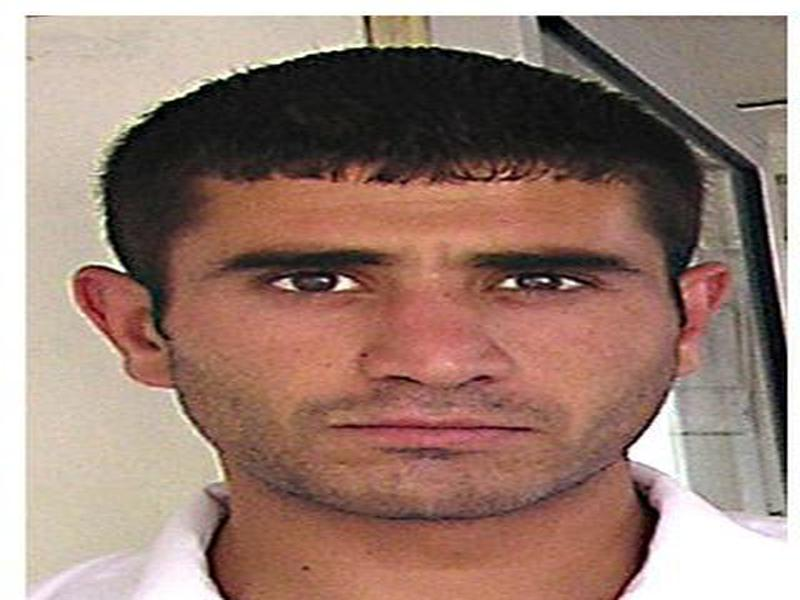without_mask: (159, 172, 672, 525)
